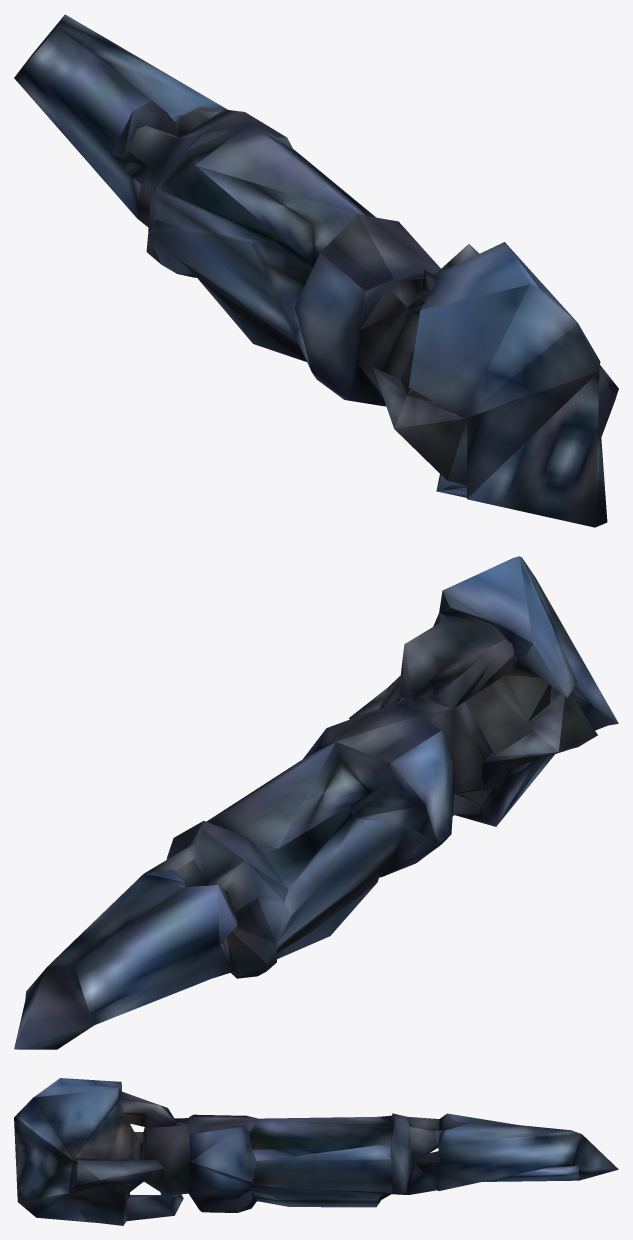
Rendered from fleet3_weapon_long.glb.
3 renders of one model, top to bottom at view 1: azimuth 30°, elevation 25°; view 2: azimuth 150°, elevation 25°; view 3: azimuth 270°, elevation 25°, orthographic. The views are drawn at different scales.
Visible parts, largest first — view 1: weapon_long; view 2: weapon_long; view 3: weapon_long.
Boxes of the visible parts, box(x1,y1,x2,y2) form: weapon_long: box(14, 14, 618, 527); weapon_long: box(14, 556, 618, 1049); weapon_long: box(14, 1078, 618, 1225).
Bounding box in the file's own units: 0.0686 × 0.0868 × 0.3467.
1 material, 1 textured.
